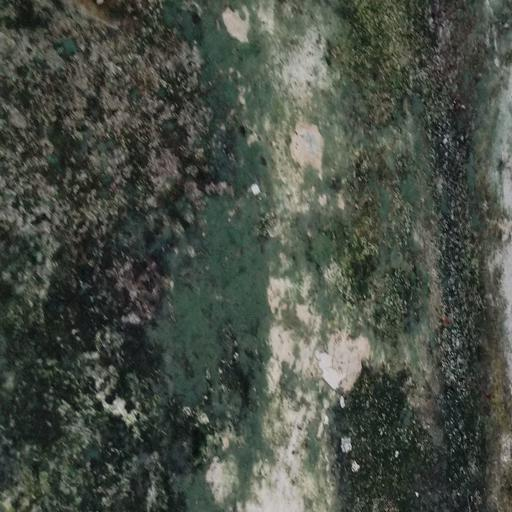algae: (13, 0, 512, 512)
